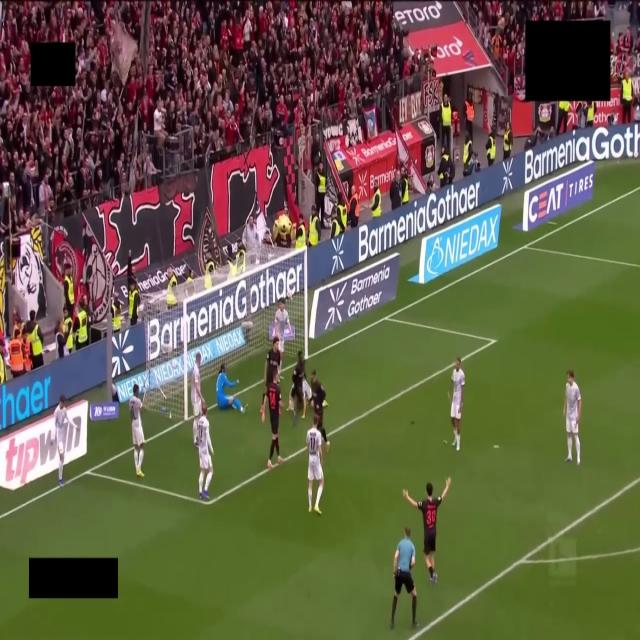player: (403, 478, 450, 584), (262, 370, 282, 468), (52, 395, 71, 486), (261, 336, 281, 421), (306, 416, 323, 514), (564, 370, 581, 464), (197, 406, 213, 499), (311, 370, 329, 452), (216, 364, 245, 413), (129, 384, 144, 478), (449, 358, 464, 451), (288, 352, 306, 425), (191, 352, 204, 447), (274, 298, 292, 354), (302, 376, 311, 419)
referee: (391, 528, 417, 629)
